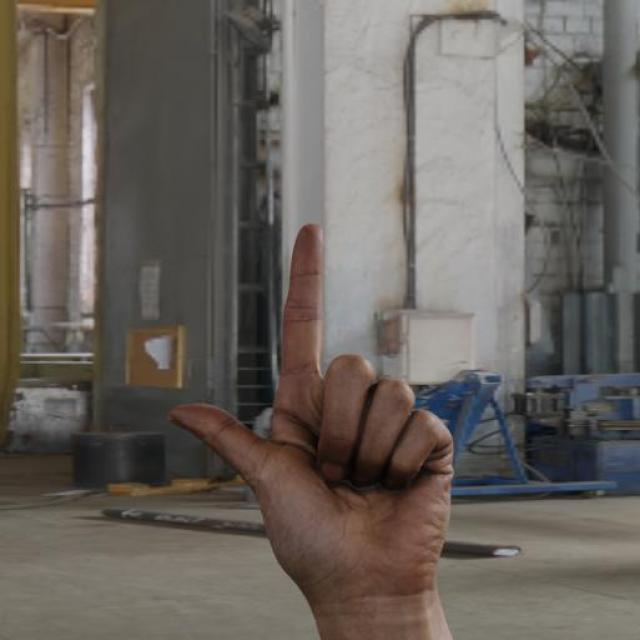L: (162, 220, 449, 592)
